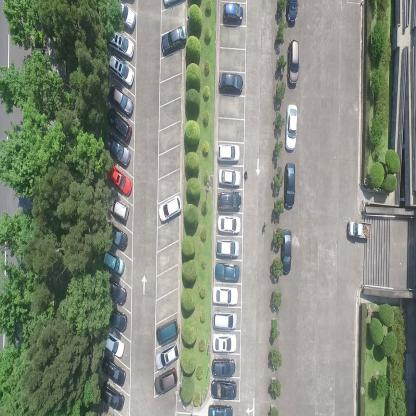car: (107, 52, 135, 89), (106, 106, 133, 144), (160, 23, 188, 56), (104, 134, 130, 168), (106, 163, 133, 195), (154, 340, 180, 372), (154, 365, 179, 398), (108, 83, 133, 116), (98, 379, 124, 410), (101, 354, 126, 386), (108, 30, 134, 60), (158, 192, 183, 223), (105, 276, 127, 308), (287, 37, 300, 89), (218, 71, 244, 97), (156, 317, 179, 346), (107, 196, 130, 225), (101, 330, 124, 358), (285, 101, 298, 150), (284, 160, 296, 210), (213, 261, 240, 283), (106, 222, 128, 249), (211, 357, 236, 379), (211, 310, 238, 330), (107, 306, 127, 333), (217, 141, 240, 164), (100, 250, 124, 272), (347, 220, 372, 241), (213, 284, 239, 304), (222, 2, 243, 26), (218, 167, 242, 188), (217, 190, 242, 210), (280, 230, 291, 275), (211, 333, 237, 352), (118, 2, 135, 30), (211, 381, 237, 399), (218, 215, 242, 233), (215, 239, 239, 257), (284, 0, 298, 26), (208, 403, 234, 415)
